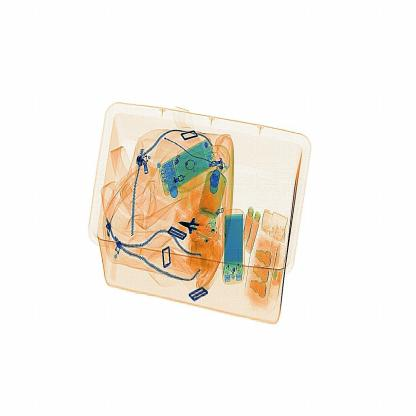gun: (178, 212, 214, 247)
